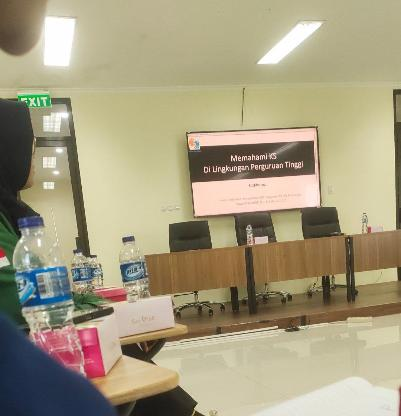Plastic Bottle: (12, 215, 86, 377), (119, 234, 151, 302), (70, 245, 94, 294)
